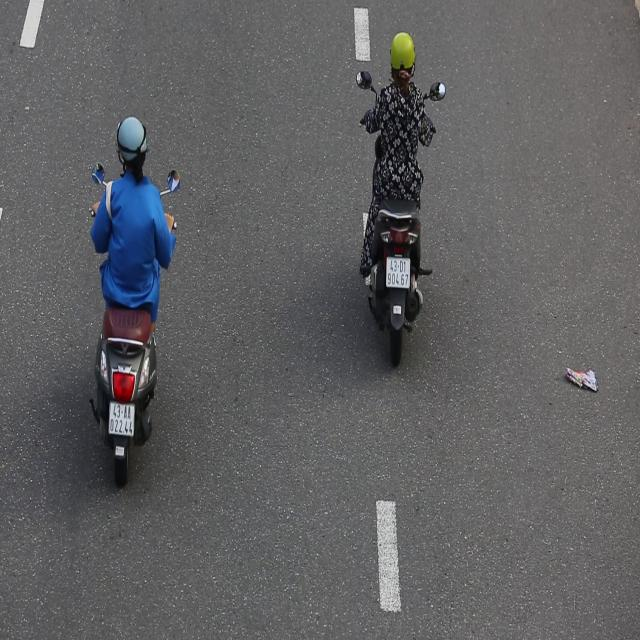motorbike: (72, 91, 188, 493), (353, 21, 452, 362)
